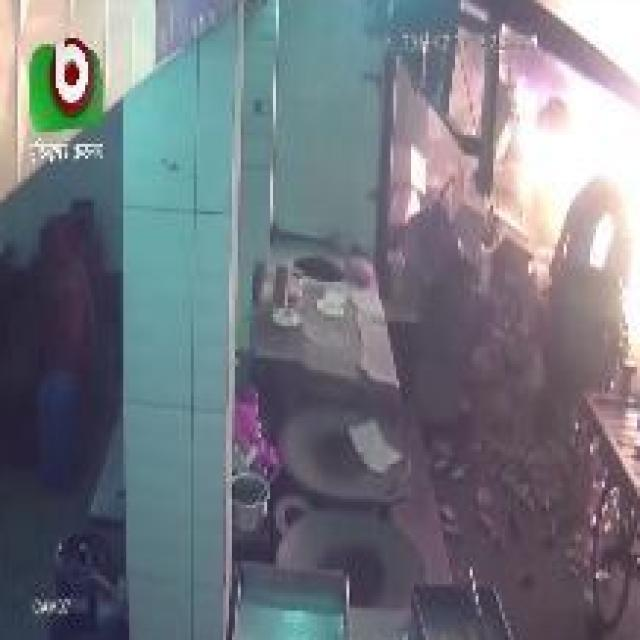smoke: (508, 0, 640, 367)
